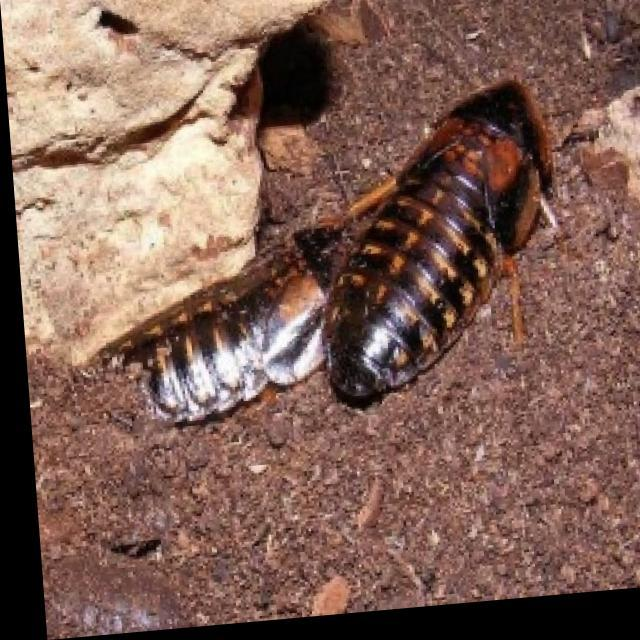cockroach: (298, 73, 567, 439), (91, 198, 358, 460)
